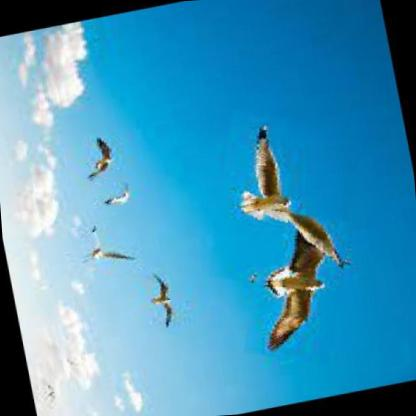bird: (205, 107, 365, 298), (241, 207, 352, 366), (68, 214, 142, 283), (137, 266, 190, 336), (76, 133, 125, 185), (99, 173, 140, 215)
